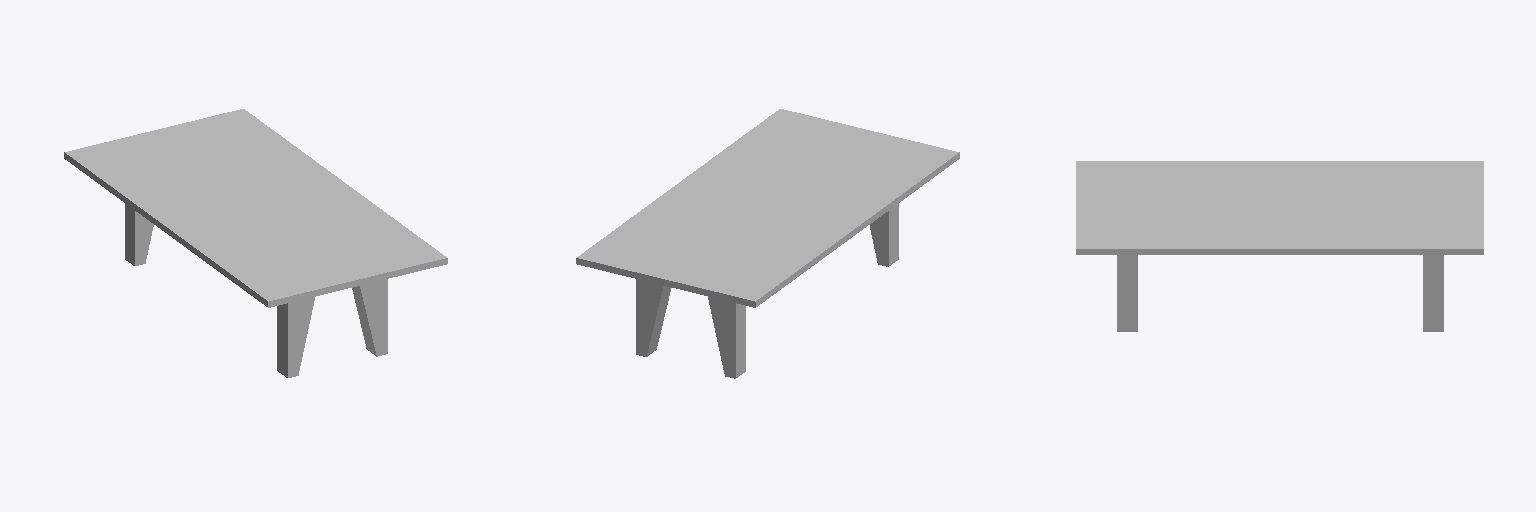
File: mesa.obj
The picture shows the model from 3 angles: view 1: azimuth 30°, elevation 25°; view 2: azimuth 150°, elevation 25°; view 3: azimuth 270°, elevation 25°; orthographic projection.
Visible parts, largest first — view 1: Cube, Cube.002, Cube.001; view 2: Cube, Cube.001, Cube.002; view 3: Cube, Cube.001, Cube.002.
Part boxes in pixels (bbox=[...]): Cube: bbox=[64, 109, 447, 307]; Cube.002: bbox=[277, 279, 387, 377]; Cube.001: bbox=[125, 203, 153, 265]; Cube: bbox=[576, 109, 959, 307]; Cube.001: bbox=[636, 279, 745, 378]; Cube.002: bbox=[870, 203, 898, 266]; Cube: bbox=[1076, 161, 1483, 254]; Cube.001: bbox=[1423, 255, 1443, 331]; Cube.002: bbox=[1117, 255, 1137, 331].
Size of the model in its own units: 8.12 by 4.41 by 16.